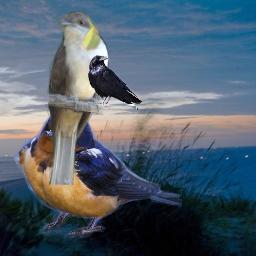Crow: (88, 55, 142, 110)
Cuckoo: (45, 11, 109, 185)
Swallow: (13, 109, 182, 238)
